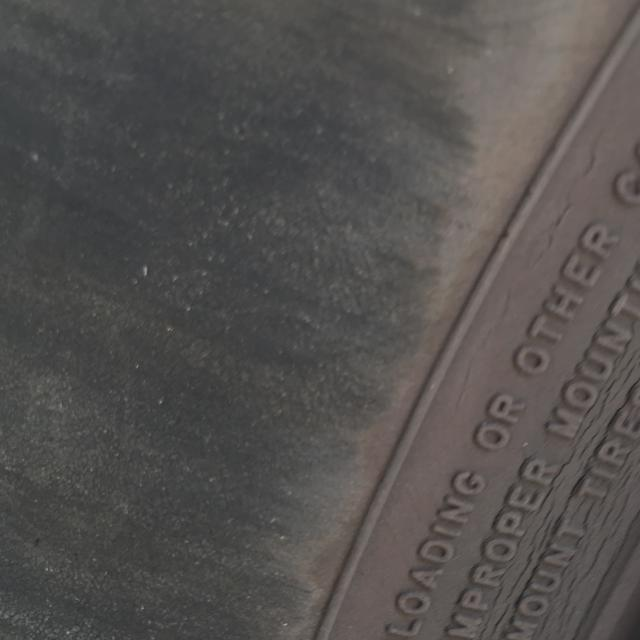Cracks: (407, 93, 640, 640)
Non-defective: (0, 8, 313, 640)
